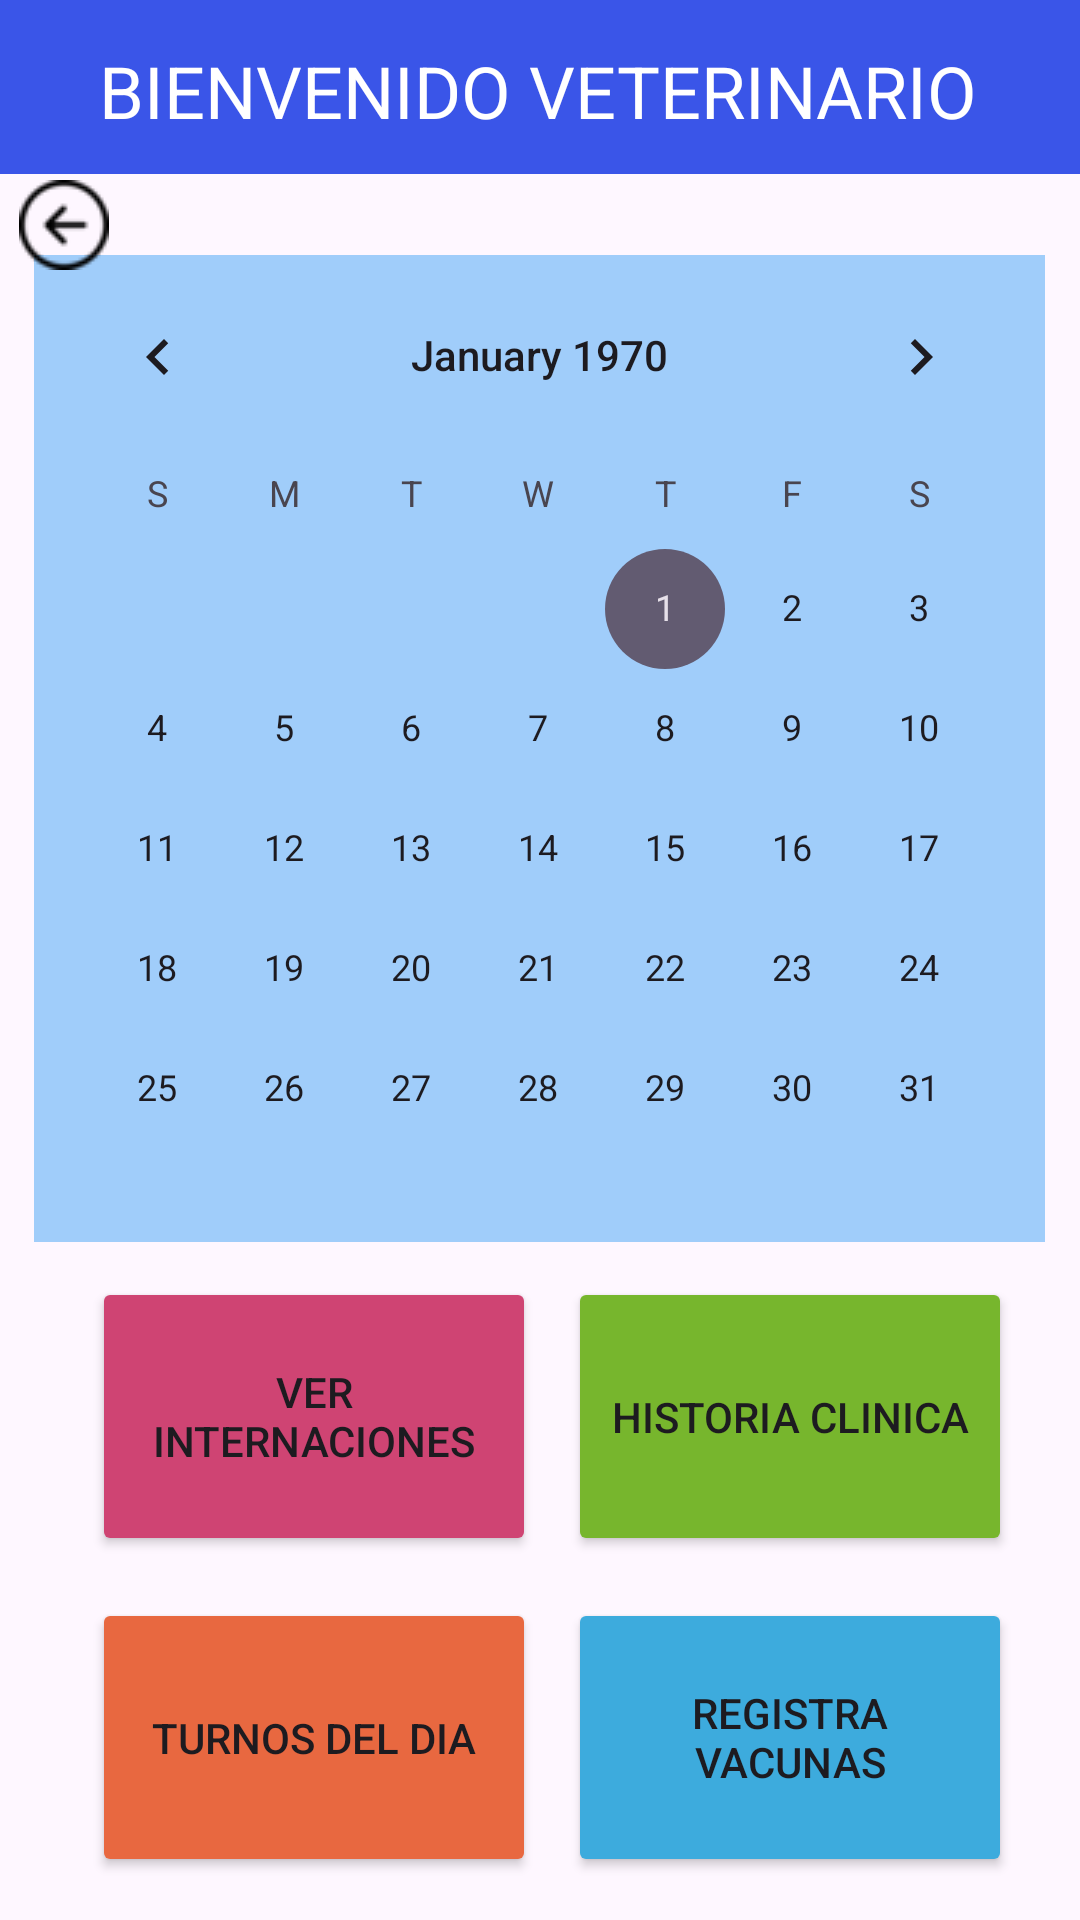

Point at icon controls on the screen. Image size 1080*1920, points as (x=x, y=y).
atras: (x=63, y=224)
